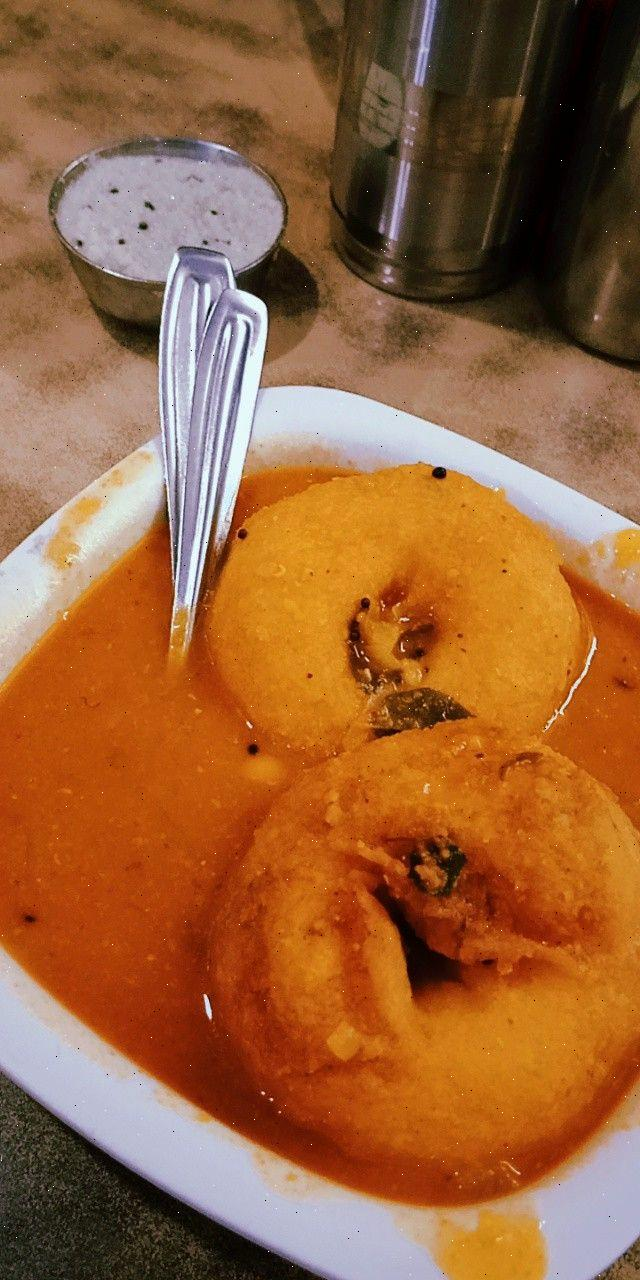coconut chutney: (82, 150, 264, 272)
medu vada: (224, 464, 635, 1186)
sambhar: (30, 602, 243, 1023)
